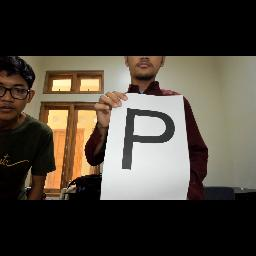p: (120, 104, 178, 172)
